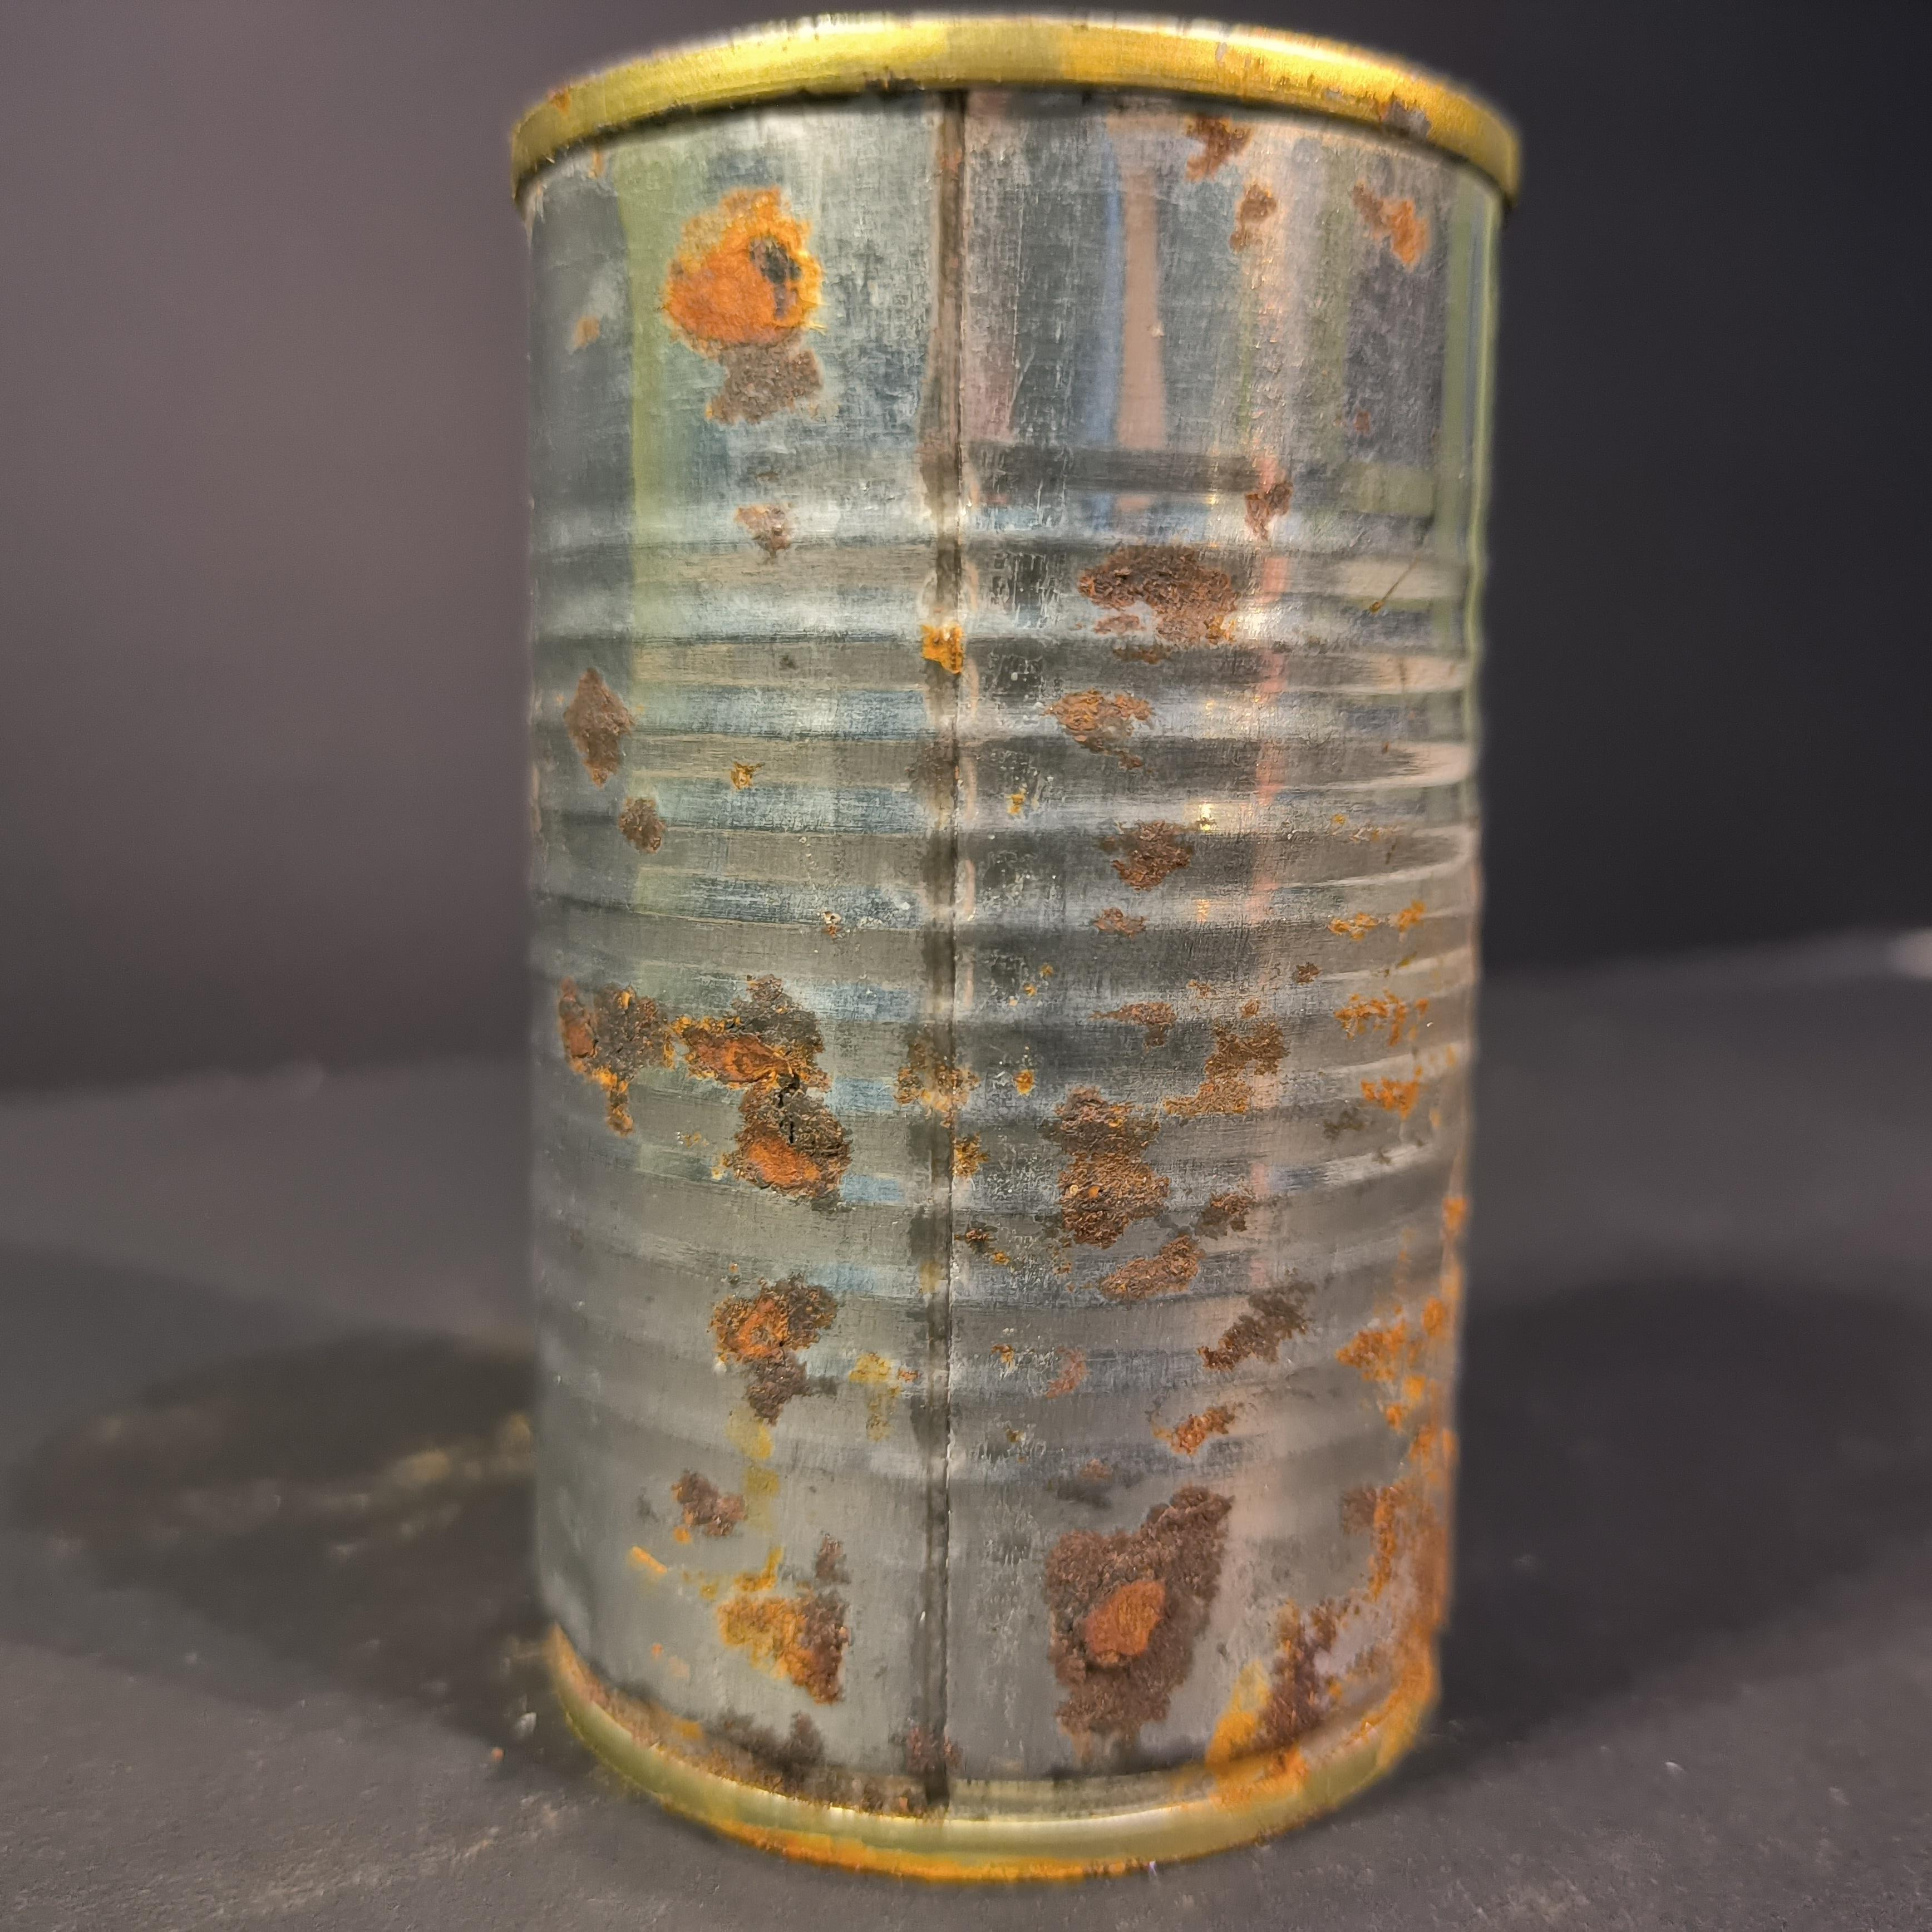Rusted: (490, 0, 1545, 1881)
